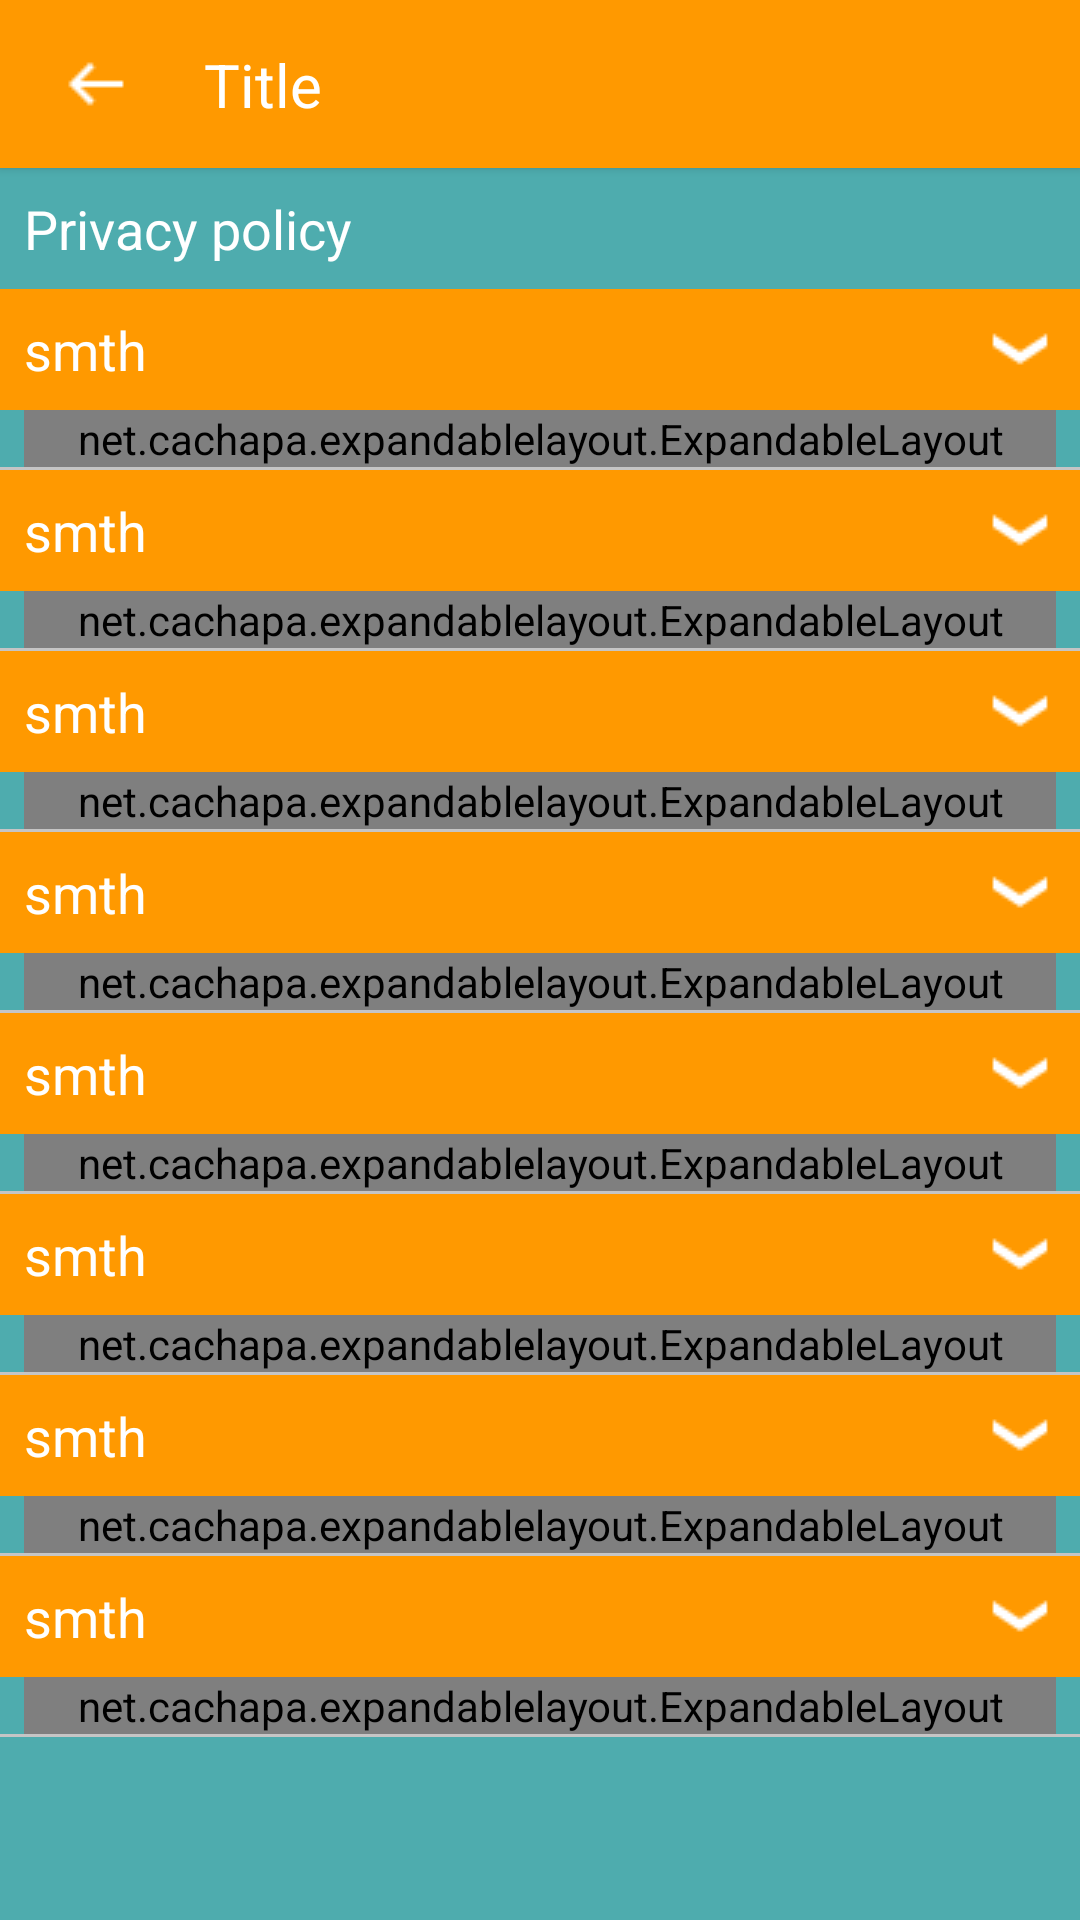

Icons on this 1080w x 1920h Android screen, each with the point to tap as (x=x, y=y):
back: (x=96, y=84)
